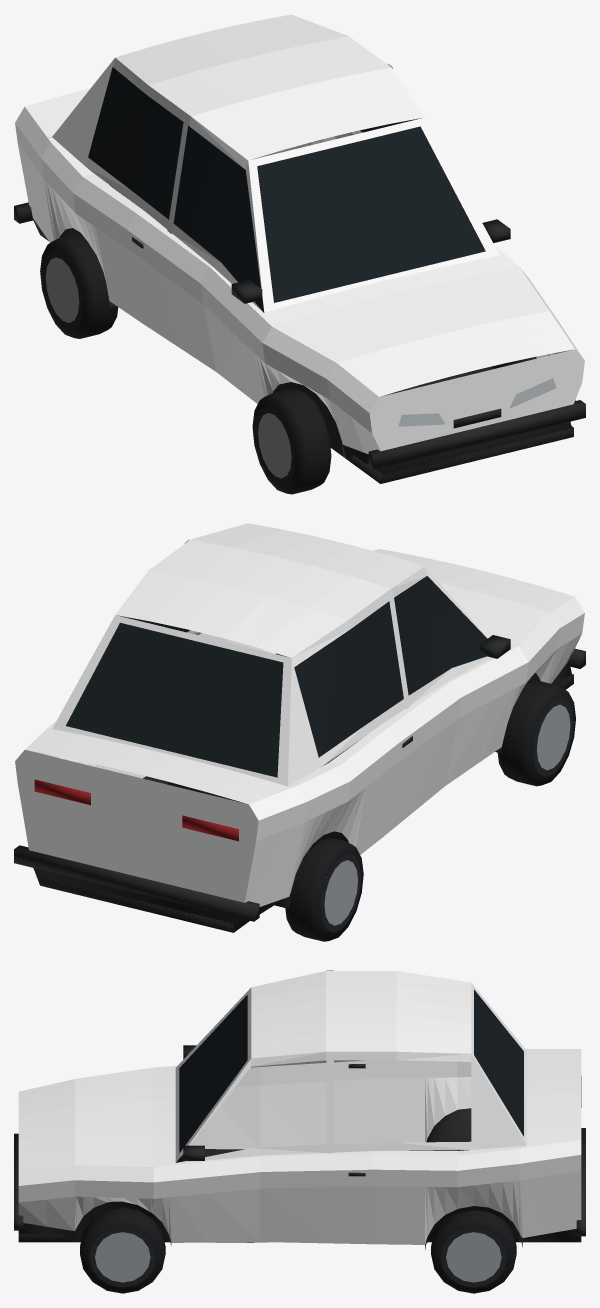
The model's file is hoshino_penca.glb.
3 renders of one model, top to bottom at view 1: azimuth 30°, elevation 25°; view 2: azimuth 150°, elevation 25°; view 3: azimuth 270°, elevation 25°, orthographic. The views are drawn at different scales.
Visible parts, largest first — view 1: Body_Paint, Body_Details, Mount_FrontLeft_Wheel_Details, Mount_RearLeft_Wheel_Details; view 2: Body_Paint, Body_Details, Mount_FrontLeft_Wheel_Details, Mount_RearLeft_Wheel_Details; view 3: Body_Paint, Body_Details, Mount_FrontRight_Wheel_Details, Mount_RearRight_Wheel_Details.
Part boxes in pixels (left/top/right/bottom): Body_Paint: left=15, top=14, right=584, bottom=454; Body_Details: left=14, top=67, right=585, bottom=483; Mount_FrontLeft_Wheel_Details: left=252, top=388, right=331, bottom=494; Mount_RearLeft_Wheel_Details: left=40, top=234, right=118, bottom=338; Body_Paint: left=15, top=523, right=584, bottom=906; Body_Details: left=14, top=576, right=585, bottom=932; Mount_FrontLeft_Wheel_Details: left=497, top=680, right=575, bottom=786; Mount_RearLeft_Wheel_Details: left=285, top=837, right=363, bottom=941; Body_Paint: left=18, top=970, right=581, bottom=1244; Body_Details: left=14, top=989, right=585, bottom=1249; Mount_FrontRight_Wheel_Details: left=80, top=1207, right=165, bottom=1293; Mount_RearRight_Wheel_Details: left=431, top=1210, right=516, bottom=1293.
Bounding box in the file's own units: 1.58 × 1.52 × 3.4.
Materials: 2 (1 with a texture image).
